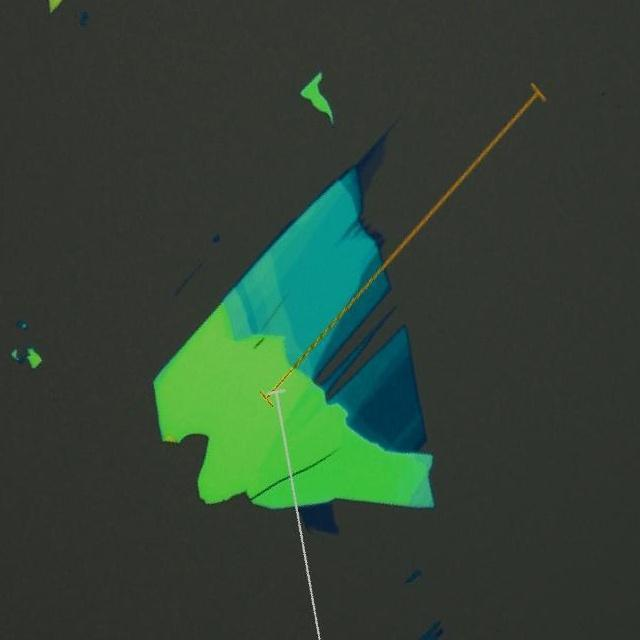monolayer-eWW4: (360, 143, 388, 196)
